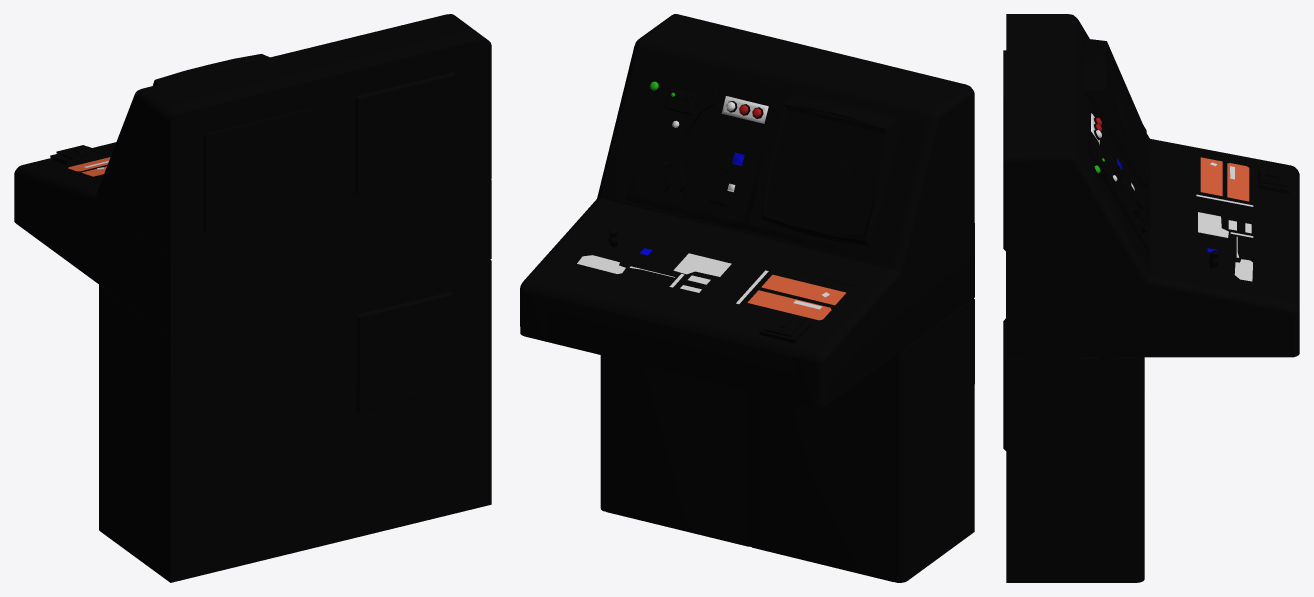
Rendered from computerpanellarge_straight_02_mesh.fbx.
3 views of the same model, side by side, from view 1: azimuth 30°, elevation 25°; view 2: azimuth 150°, elevation 25°; view 3: azimuth 270°, elevation 25° (orthographic). The views are drawn at different scales.
Visible parts, largest first — view 1: base (×3); view 2: base (×4), red_light, light; view 3: base (×4), red_light, light.
Part boxes in pixels (x1,y1,x2,y2): base (×3): (14,14,491,582); base (×4): (520,14,974,582); red_light: (577,253,821,309); light: (629,152,829,303); base (×4): (1003,14,1299,582); red_light: (1198,166,1252,281); light: (1117,158,1253,257).
Size of the model in its own units: 0.9201 by 1.28 by 0.8035.
